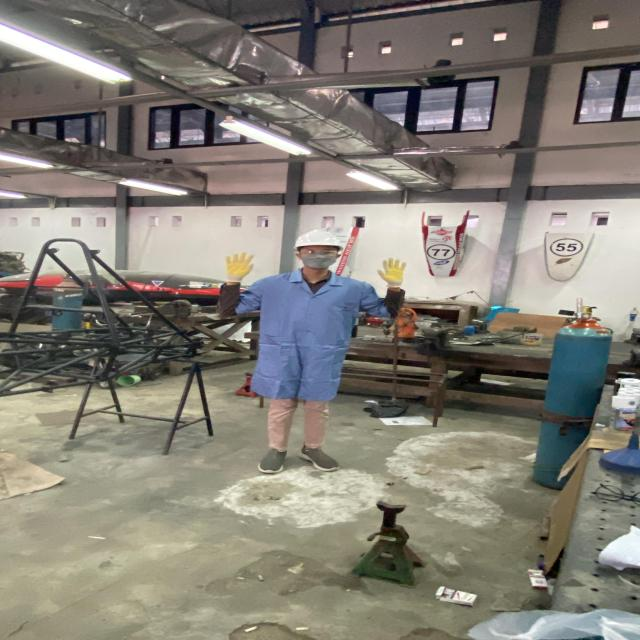face_mask: (294, 246, 340, 270)
glasses: (294, 246, 344, 257)
hand_glove: (220, 250, 257, 284), (372, 257, 413, 286)
head_helmet: (290, 228, 346, 250)
person: (206, 227, 423, 481)
shoes: (296, 443, 345, 473), (254, 443, 292, 475)
